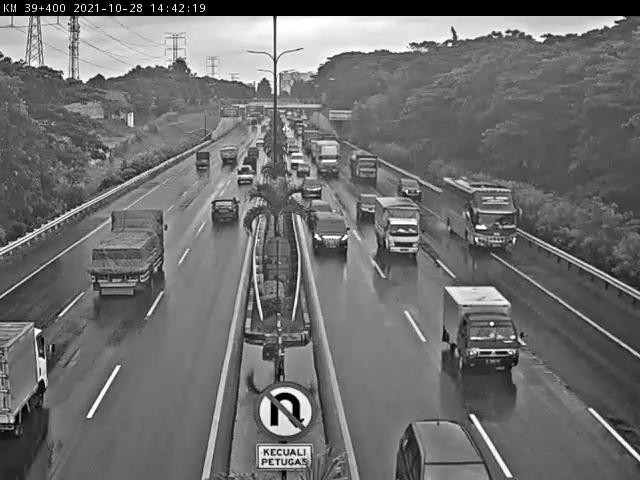big bus: (442, 176, 517, 249)
big truck: (88, 210, 167, 295)
car: (313, 212, 350, 255), (211, 196, 242, 224), (306, 200, 331, 227), (355, 194, 380, 216), (399, 179, 422, 198), (301, 177, 323, 196), (237, 165, 254, 184)
small truck: (441, 287, 517, 371), (373, 199, 419, 254)
